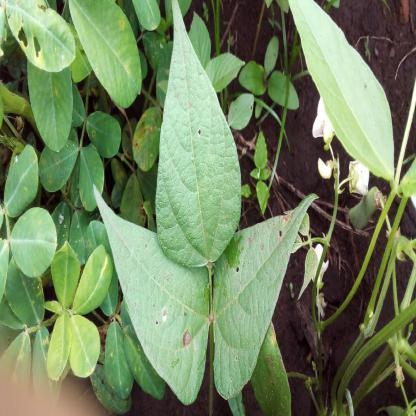Beans_Angular_LeafSpot: (87, 186, 210, 406), (151, 0, 241, 266), (216, 196, 322, 397)
